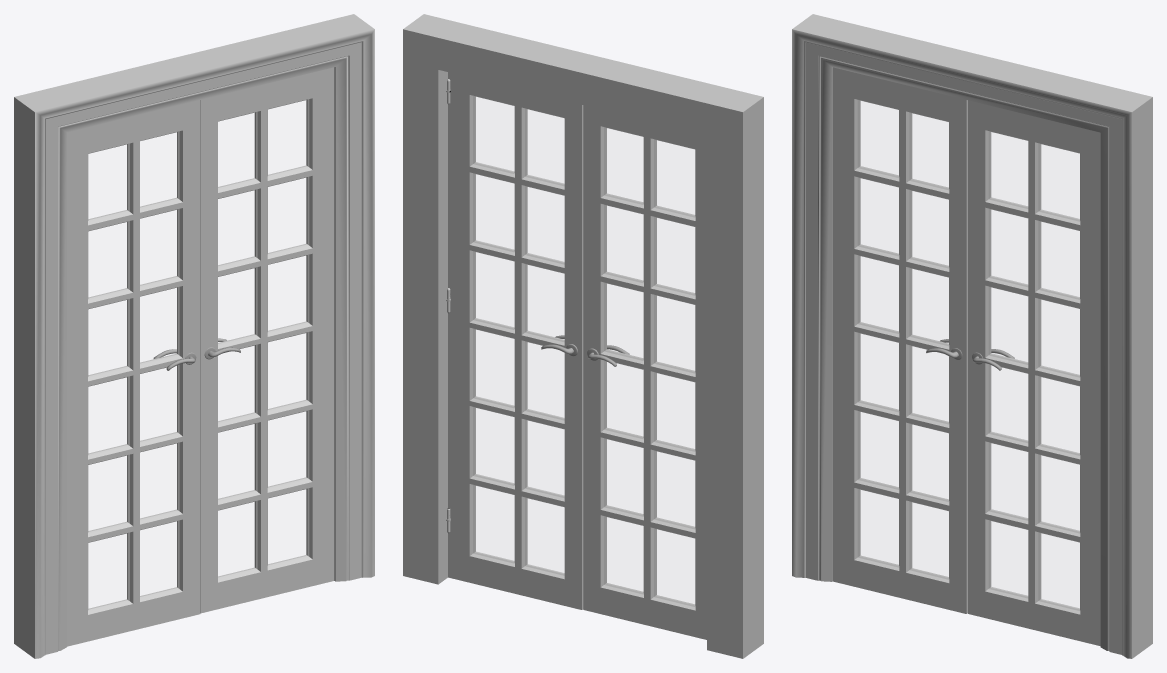
The model's file is FrenchDoorDouble.glb.
3 renders of one model, left to right at view 1: azimuth 30°, elevation 25°; view 2: azimuth 150°, elevation 25°; view 3: azimuth 330°, elevation 25°, orthographic.
Visible parts, largest first — view 1: FrenchDoor[doorframe], FrenchDoor2[door], FrenchDoor1[door], FrenchDoor[handle]; view 2: FrenchDoor[doorframe], FrenchDoor2[door], FrenchDoor1[door], FrenchDoor[handle]; view 3: FrenchDoor[doorframe], FrenchDoor1[door], FrenchDoor2[door], FrenchDoor[handle].
Boxes of the visible parts, x1=… form: FrenchDoor[doorframe]: x1=14, y1=14, x2=374, y2=658; FrenchDoor2[door]: x1=200, y1=67, x2=334, y2=613; FrenchDoor1[door]: x1=67, y1=100, x2=200, y2=646; FrenchDoor[handle]: x1=153, y1=338, x2=240, y2=370; FrenchDoor[doorframe]: x1=403, y1=14, x2=763, y2=658; FrenchDoor2[door]: x1=448, y1=72, x2=583, y2=609; FrenchDoor1[door]: x1=583, y1=105, x2=706, y2=639; FrenchDoor[handle]: x1=541, y1=335, x2=629, y2=366; FrenchDoor[doorframe]: x1=792, y1=14, x2=1152, y2=658; FrenchDoor1[door]: x1=832, y1=67, x2=967, y2=613; FrenchDoor2[door]: x1=968, y1=100, x2=1100, y2=646; FrenchDoor[handle]: x1=926, y1=339, x2=1014, y2=370.
Size of the model in its own units: 1.42 by 2.17 by 0.1553.
6 materials, 5 textured.
